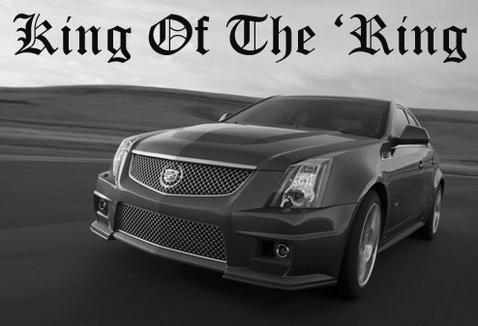car: (91, 93, 449, 300)
